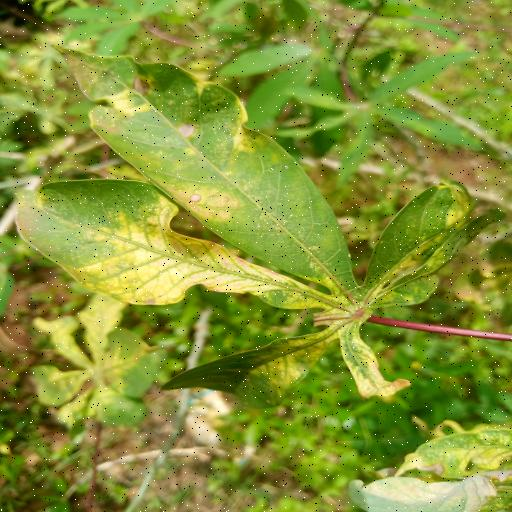Cassava_Mosaic: (11, 49, 502, 413)
